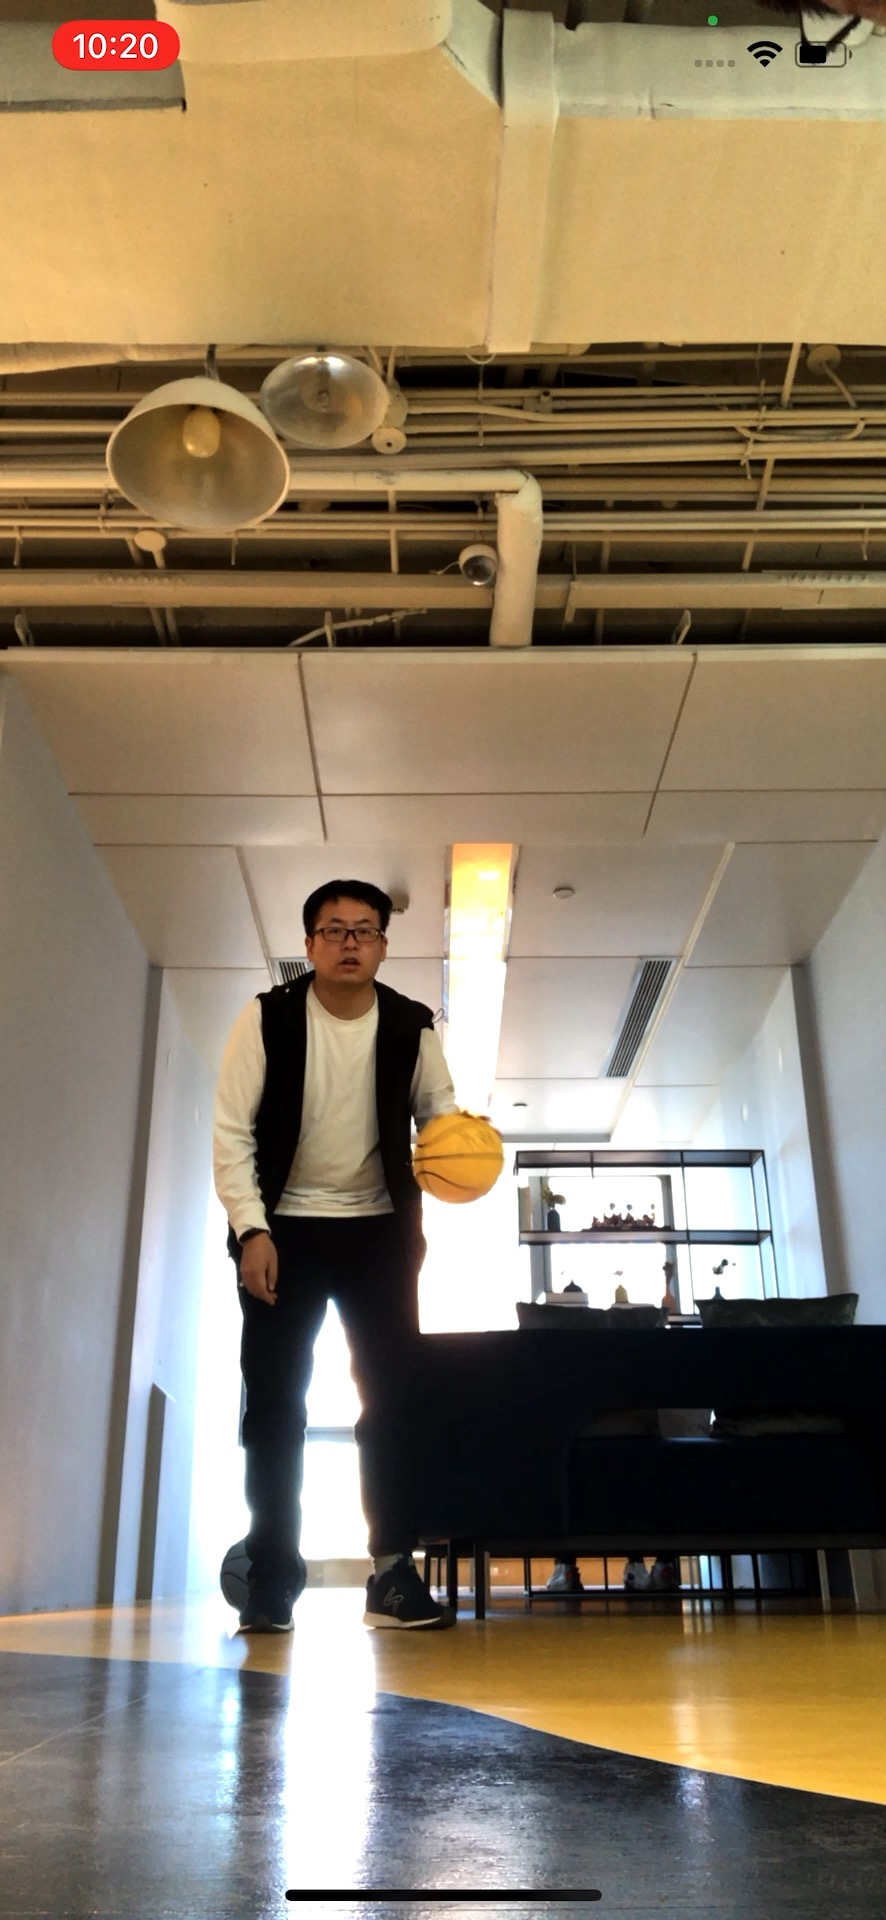ball: (412, 1112, 505, 1202)
